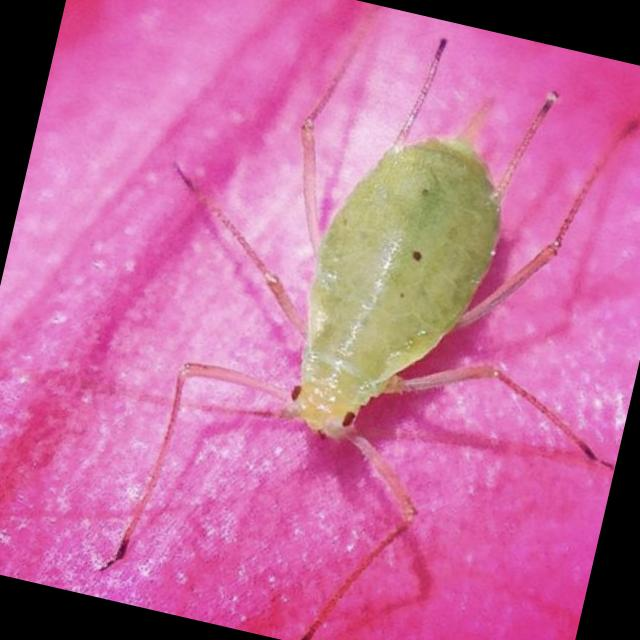Aphids: (69, 13, 640, 640)
